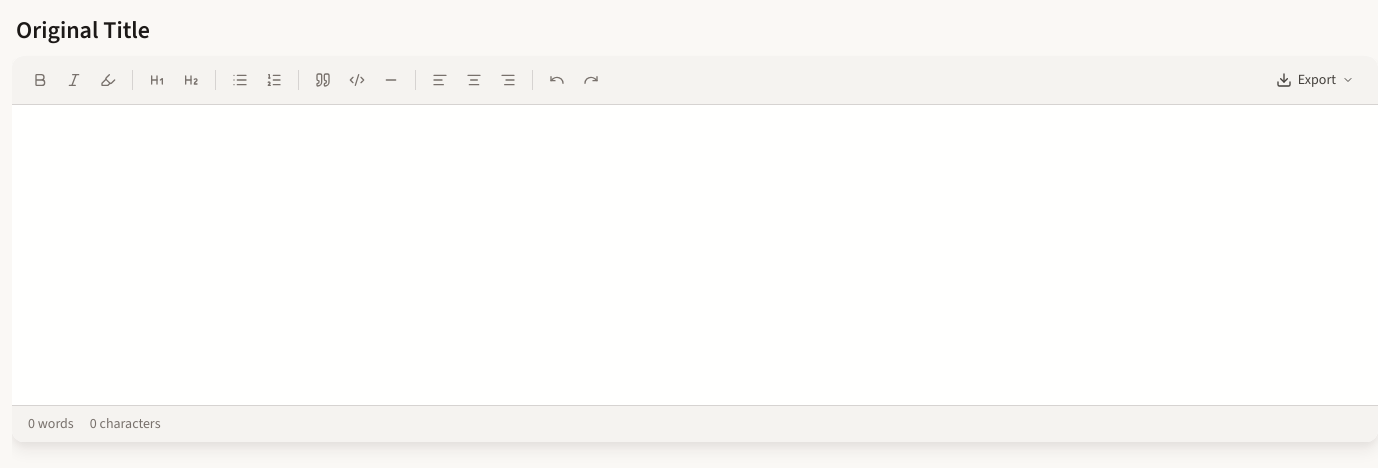
Scenario: DocumentEditor › Title Editing › should allow editing title inline
Click the heading "Original Title" at (83, 30), box [12,12,154,48]
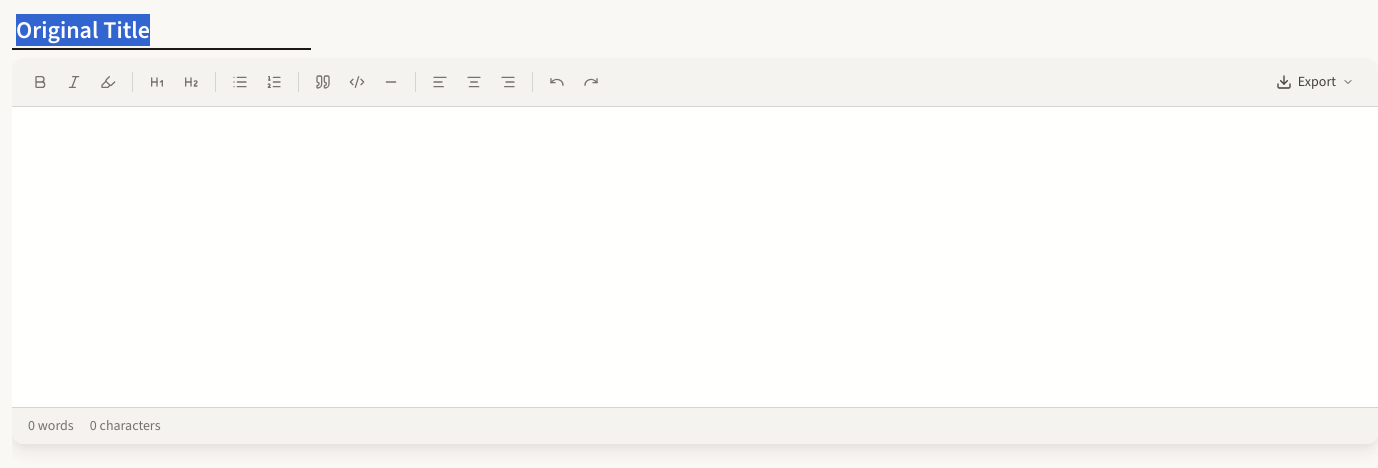
Expected: the field named "document title" is shown, [12,12,311,50]
